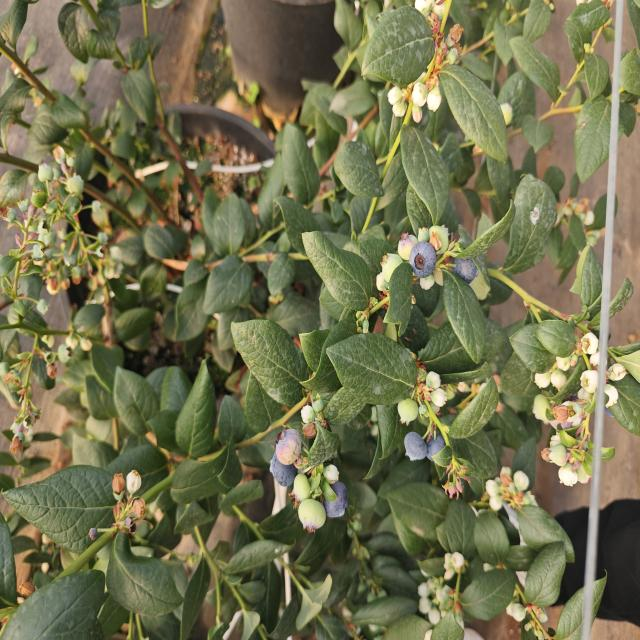ripe: (319, 471, 354, 519), (406, 239, 438, 282), (270, 459, 304, 497), (428, 422, 454, 470), (400, 427, 428, 465), (451, 253, 480, 287)
